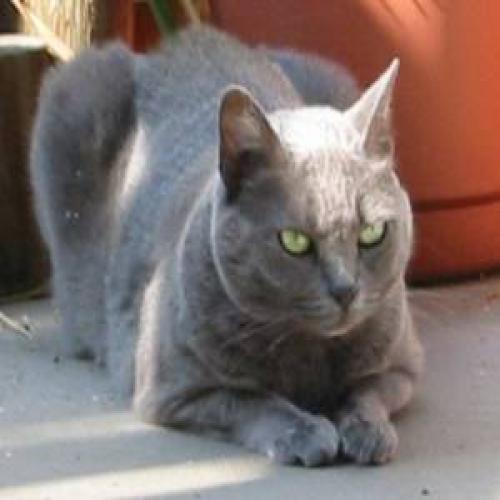rblue: (196, 54, 431, 347)
